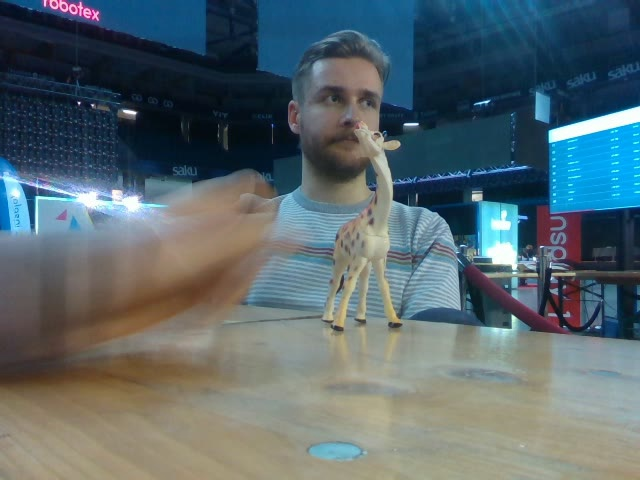toy: (321, 121, 401, 333)
